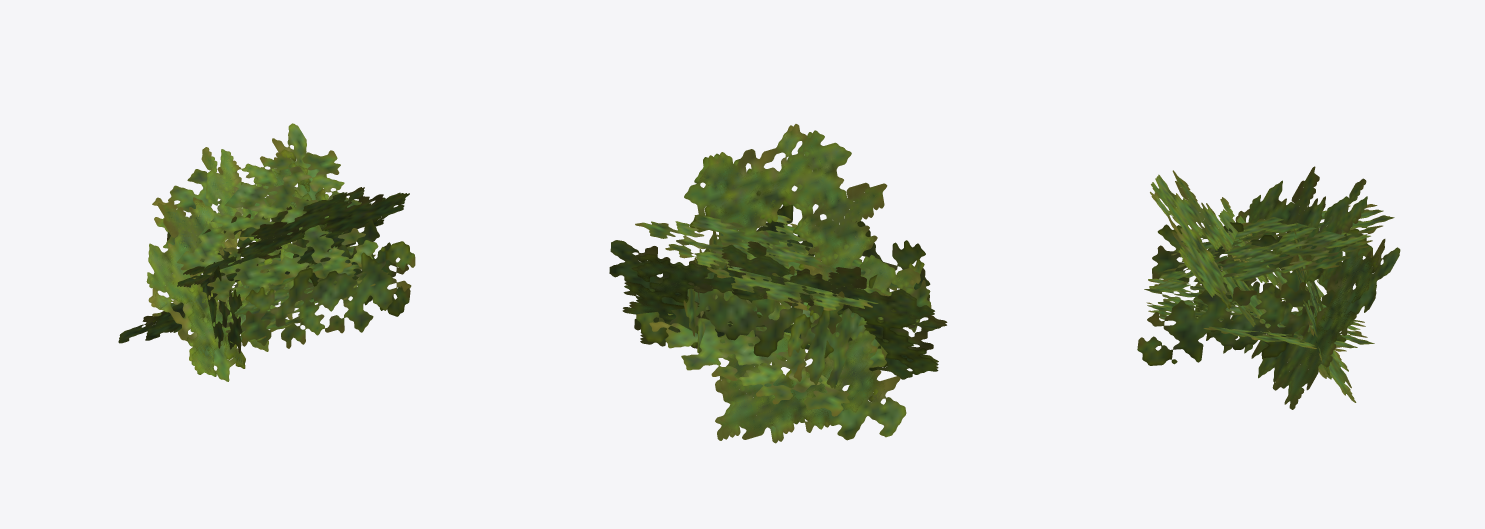
The model's file is oak_leaves_yellowish_slab.obj.
3 views of the same model, side by side, from view 1: azimuth 30°, elevation 25°; view 2: azimuth 150°, elevation 25°; view 3: azimuth 270°, elevation 25° (orthographic). The views are drawn at different scales.
Parts seen in each view (by area): view 1: cube; view 2: cube; view 3: cube.
Part boxes in pixels (left/top/right/bottom): cube: left=118, top=123, right=415, bottom=381; cube: left=609, top=124, right=947, bottom=443; cube: left=1137, top=166, right=1400, bottom=409.
Size of the model in its own units: 2.99 by 2.22 by 2.1.
